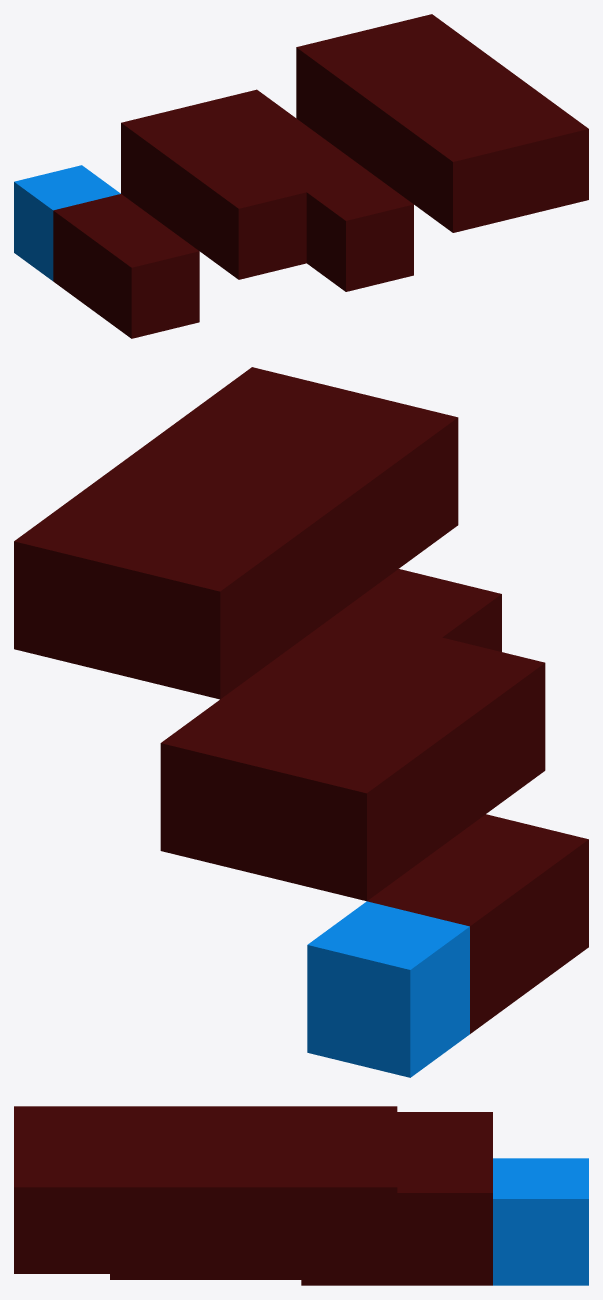
The model's file is Wing-14-MeteorSlicer_Fin_R.obj.
3 renders of one model, top to bottom at view 1: azimuth 30°, elevation 25°; view 2: azimuth 150°, elevation 25°; view 3: azimuth 270°, elevation 25°, orthographic. The views are drawn at different scales.
Visible parts, largest first — view 1: MeteorSlicer_Fin_R; view 2: MeteorSlicer_Fin_R; view 3: MeteorSlicer_Fin_R.
Boxes of the visible parts, box(x1,y1,x2,y2) form: MeteorSlicer_Fin_R: box(14, 14, 588, 338); MeteorSlicer_Fin_R: box(14, 367, 588, 1077); MeteorSlicer_Fin_R: box(14, 1106, 588, 1285).
Bounding box in the file's own units: 0.5 × 0.3 × 0.6.
1 material, 1 textured.
